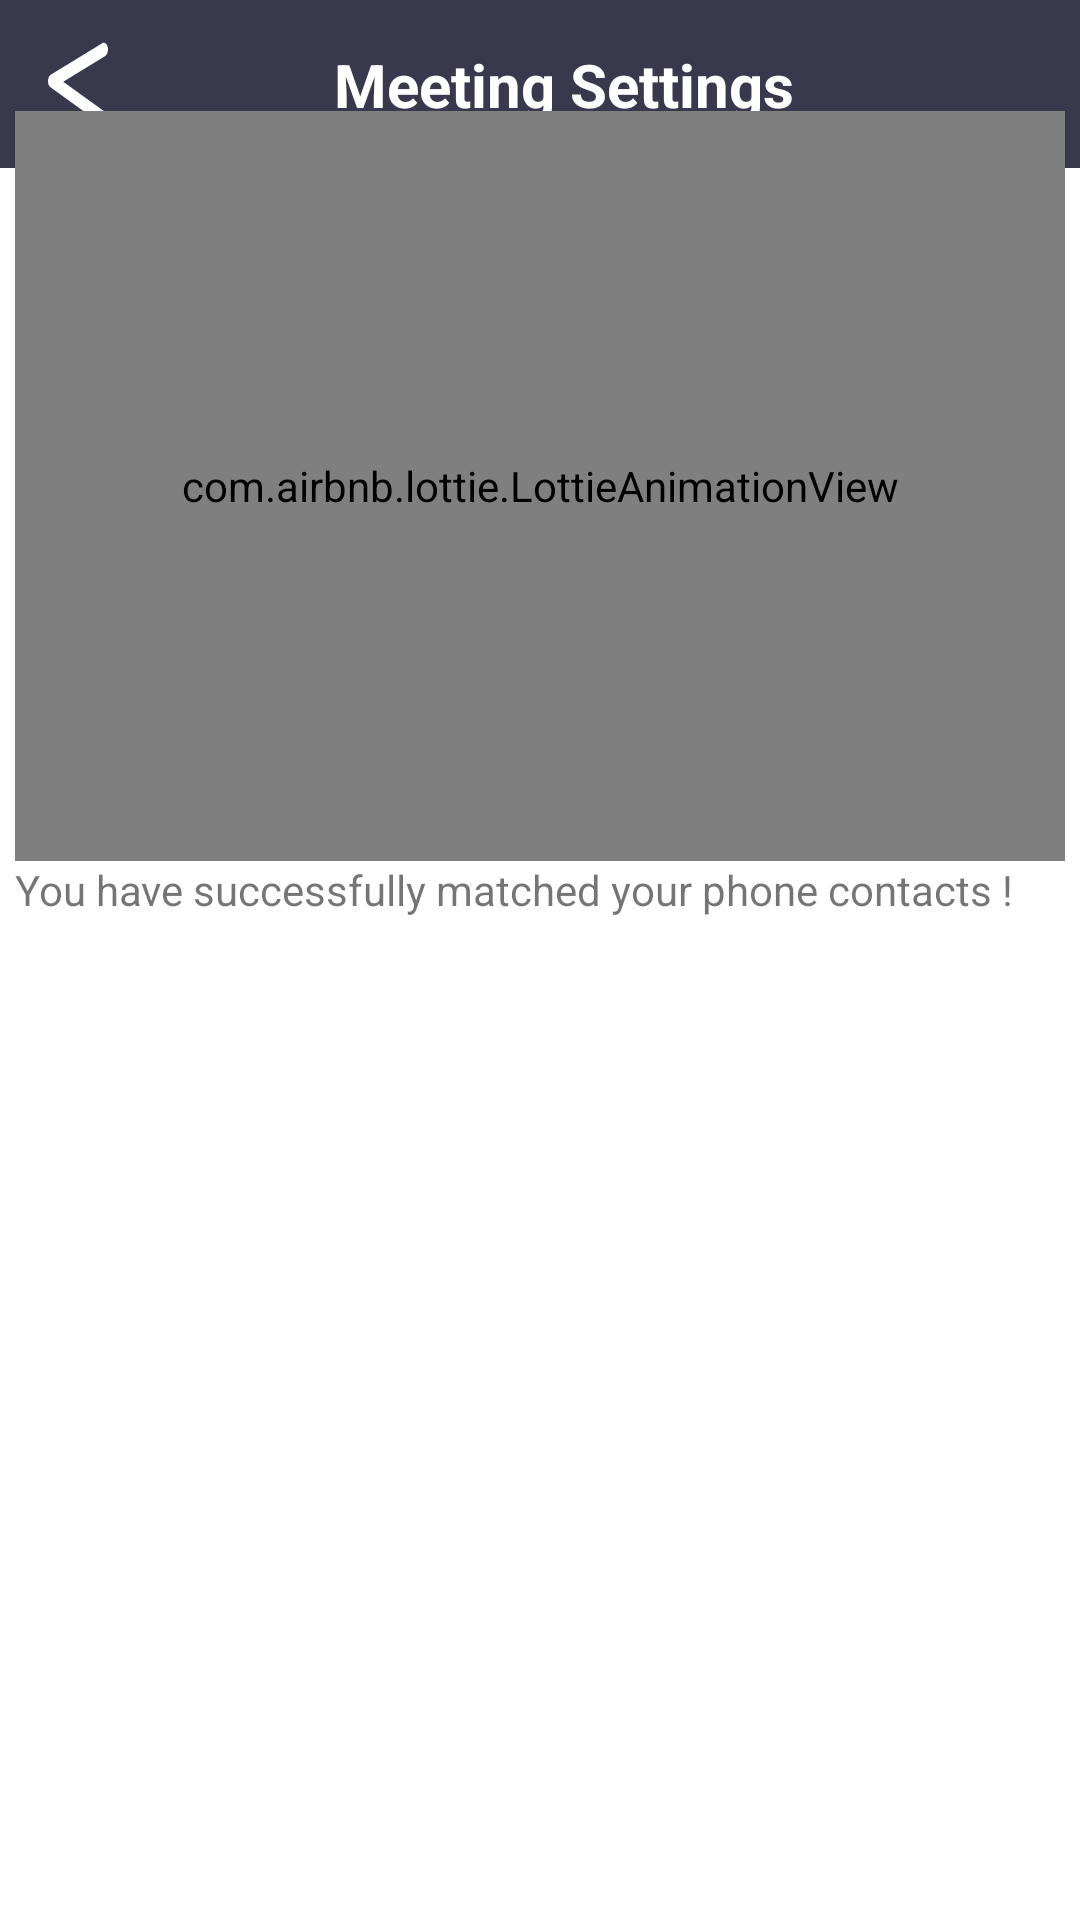

Icons on this 1080*1920 Android screen, each with its box as (x1, y1, x2, y2):
less back: (48, 42, 108, 132)
